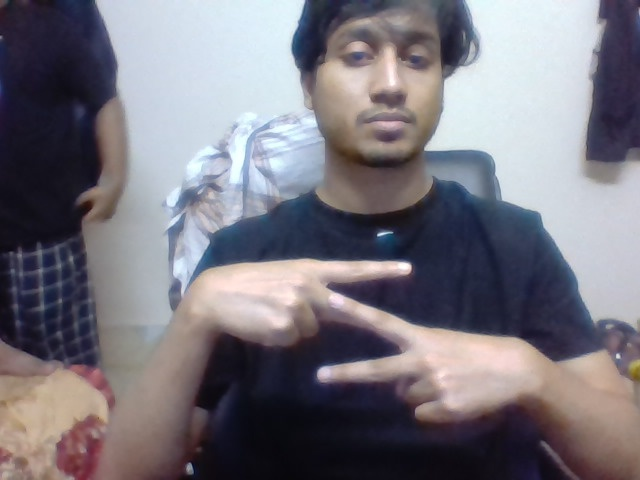Z: (315, 253, 421, 389)
